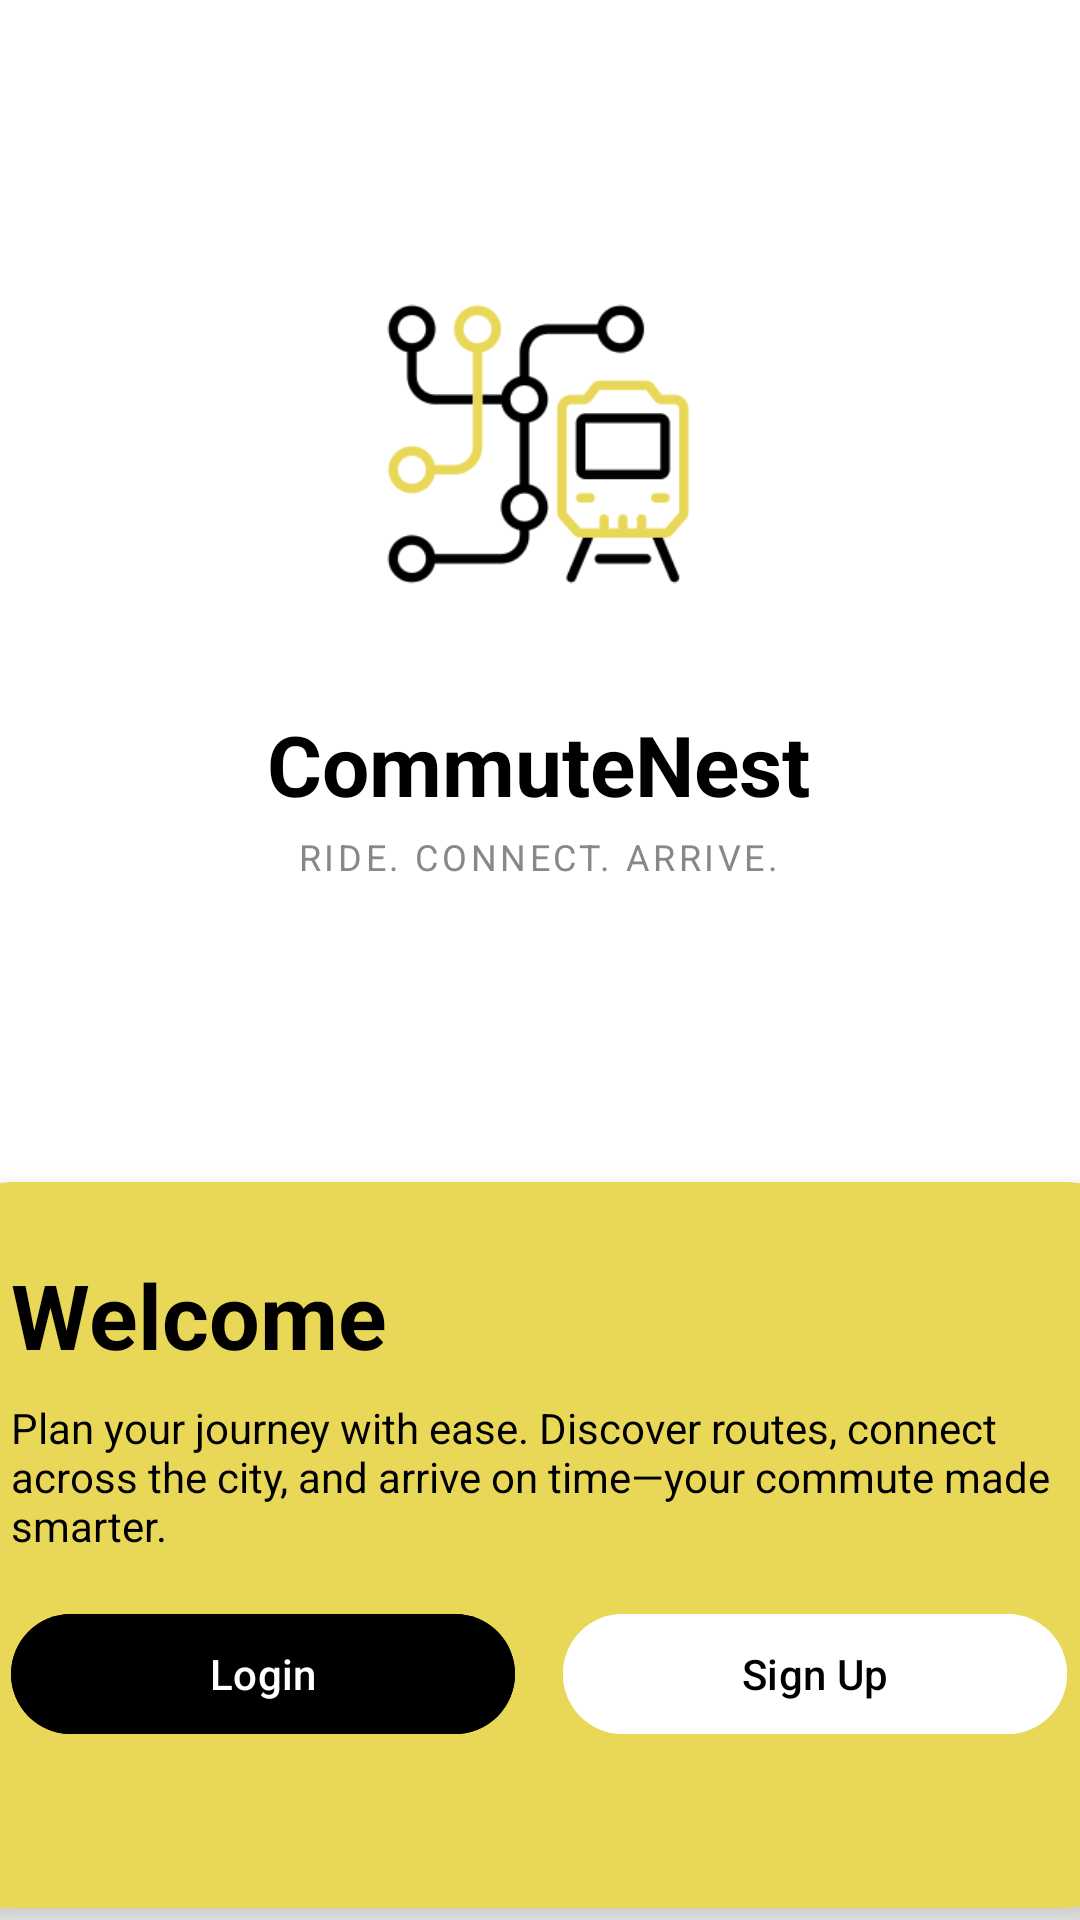

Where to tap for icons on this 1080px x 1920px app screen, as point (x, y):
subway: point (538, 444)
